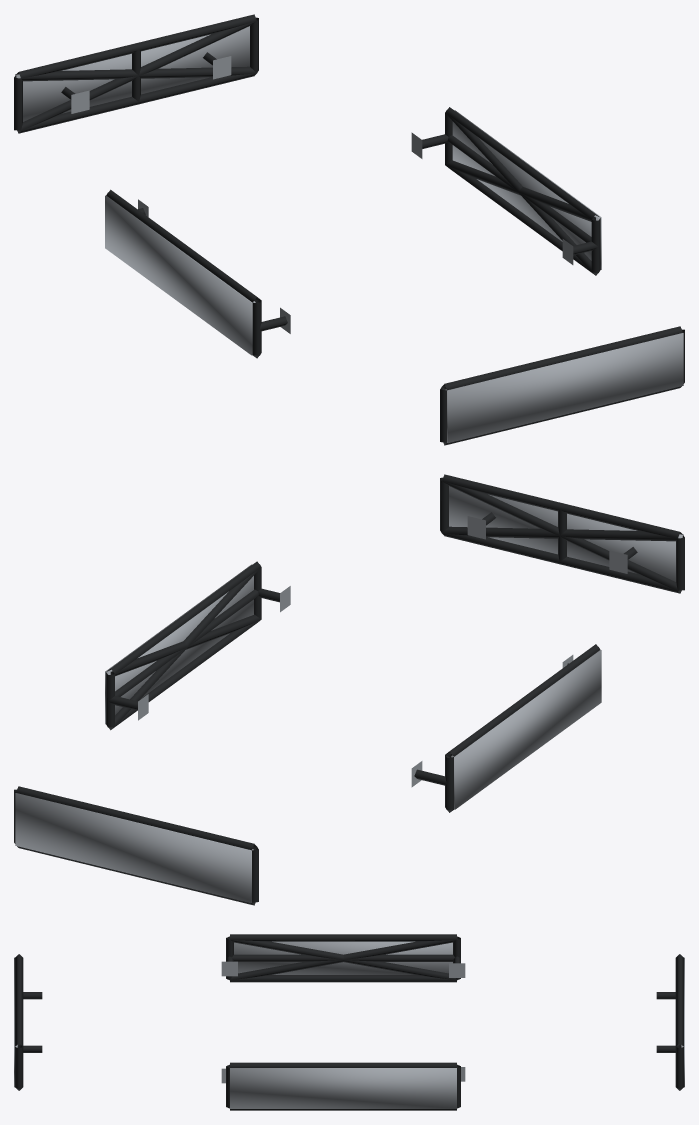
Rendered from vallon_ceramica_protecao.glb.
The picture shows the model from 3 angles, top to bottom: view 1: azimuth 30°, elevation 25°; view 2: azimuth 150°, elevation 25°; view 3: azimuth 270°, elevation 25°; orthographic projection. The views are drawn at different scales.
Parts seen in each view (by area): view 1: Protection_front_Level3_Details, Protection_left_Level3_Details, Protection_rear_Level1_Details, Protection_rear_Level3_Details, Protection_right_Level1_Details, Protection_rear_Level2_Details, Protection_right_Level2_Details, Protection_right_Level3_Details, Protection_front_Level1_Details, Protection_left_Level1_Details; view 2: Protection_rear_Level3_Details, Protection_left_Level3_Details, Protection_front_Level1_Details, Protection_front_Level3_Details, Protection_right_Level1_Details, Protection_front_Level2_Details, Protection_right_Level2_Details, Protection_right_Level3_Details, Protection_rear_Level1_Details, Protection_left_Level1_Details; view 3: Protection_right_Level3_Details, Protection_left_Level2_Details, Protection_left_Level1_Details, Protection_left_Level3_Details, Protection_right_Level1_Details, Protection_rear_Level1_Details, Protection_front_Level1_Details.
Boxes of the visible parts, x1,y1,x2,y2 form: Protection_front_Level3_Details: (445, 333, 683, 443); Protection_left_Level3_Details: (105, 195, 255, 355); Protection_rear_Level1_Details: (14, 14, 258, 133); Protection_rear_Level3_Details: (15, 26, 249, 121); Protection_right_Level1_Details: (411, 107, 600, 275); Protection_rear_Level2_Details: (16, 21, 256, 132); Protection_right_Level2_Details: (445, 113, 598, 275); Protection_right_Level3_Details: (452, 110, 601, 269); Protection_front_Level1_Details: (440, 326, 684, 445); Protection_left_Level1_Details: (106, 189, 290, 358); Protection_rear_Level3_Details: (15, 793, 253, 903); Protection_left_Level3_Details: (451, 650, 601, 809); Protection_front_Level1_Details: (440, 474, 684, 593); Protection_front_Level3_Details: (449, 486, 683, 581); Protection_right_Level1_Details: (106, 561, 290, 730); Protection_front_Level2_Details: (442, 481, 682, 592); Protection_right_Level2_Details: (107, 568, 261, 729); Protection_right_Level3_Details: (105, 564, 253, 724); Protection_rear_Level1_Details: (14, 786, 258, 905); Protection_left_Level1_Details: (411, 644, 600, 812); Protection_right_Level3_Details: (230, 1068, 456, 1108); Protection_left_Level2_Details: (229, 937, 457, 980); Protection_left_Level1_Details: (221, 934, 465, 982); Protection_left_Level3_Details: (234, 941, 452, 974); Protection_right_Level1_Details: (221, 1062, 465, 1110); Protection_rear_Level1_Details: (656, 954, 683, 1090); Protection_front_Level1_Details: (15, 954, 42, 1090).
Size of the model in its own units: 2.1 by 0.354 by 4.49.
1 material, 1 textured.
